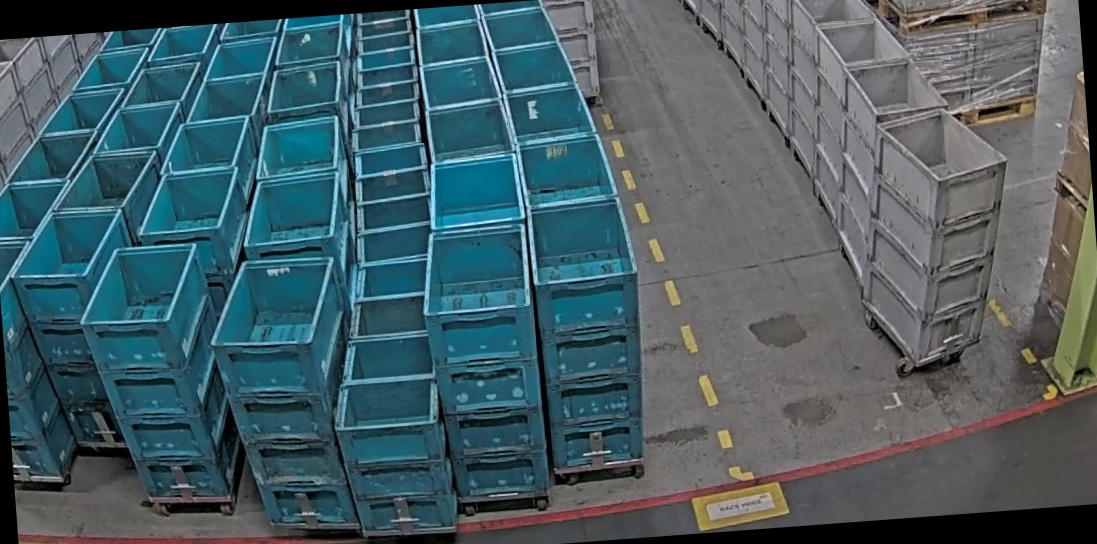4G: (847, 106, 1021, 367)
B4: (77, 239, 245, 509), (205, 254, 361, 534), (417, 222, 549, 504), (6, 207, 148, 458), (525, 195, 652, 475)
B8: (329, 332, 456, 536)
